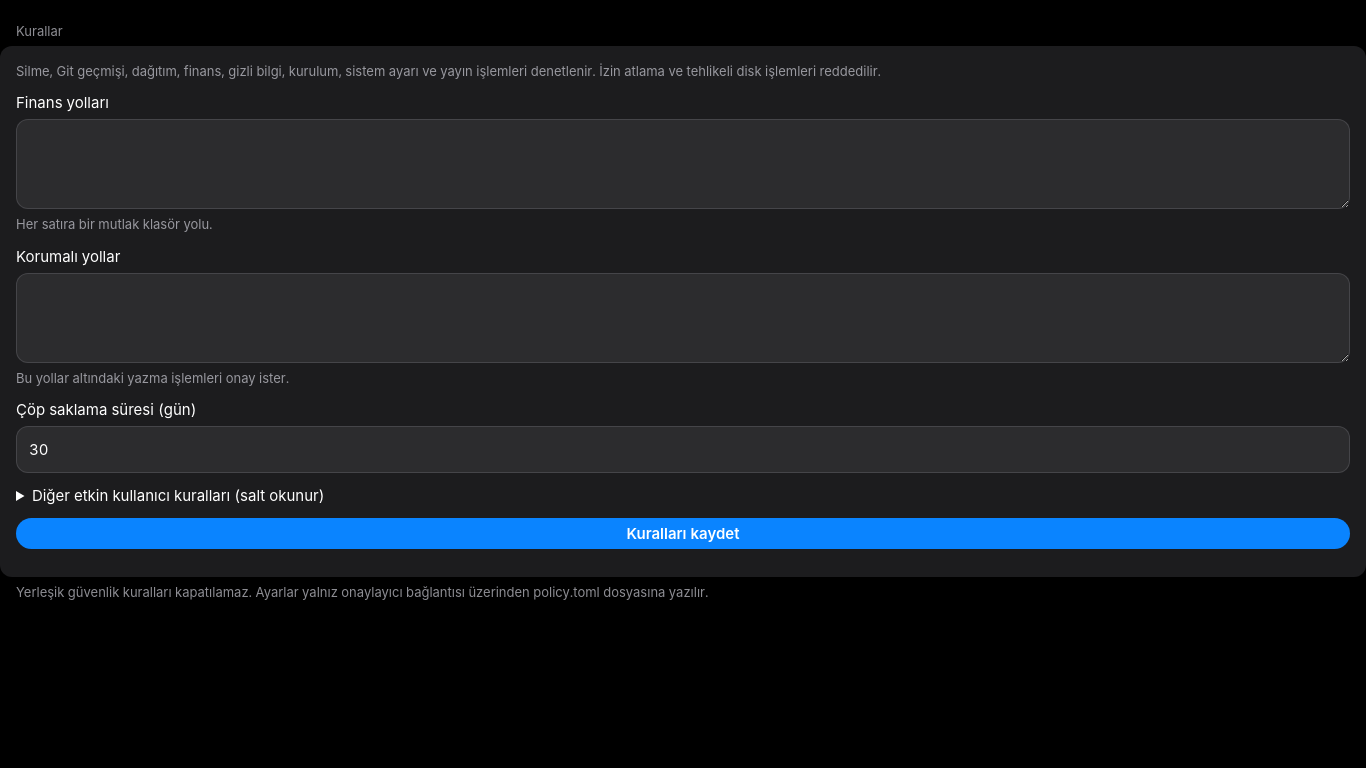
Test case: policy_settings_roundtrip_preserves_readonly_rules
Type "/example/finance" into the text box labelled "Finans yolları Her satıra bir mutlak klasör yolu.". click: (683, 164)
box: left=16, top=119, right=1350, bottom=209
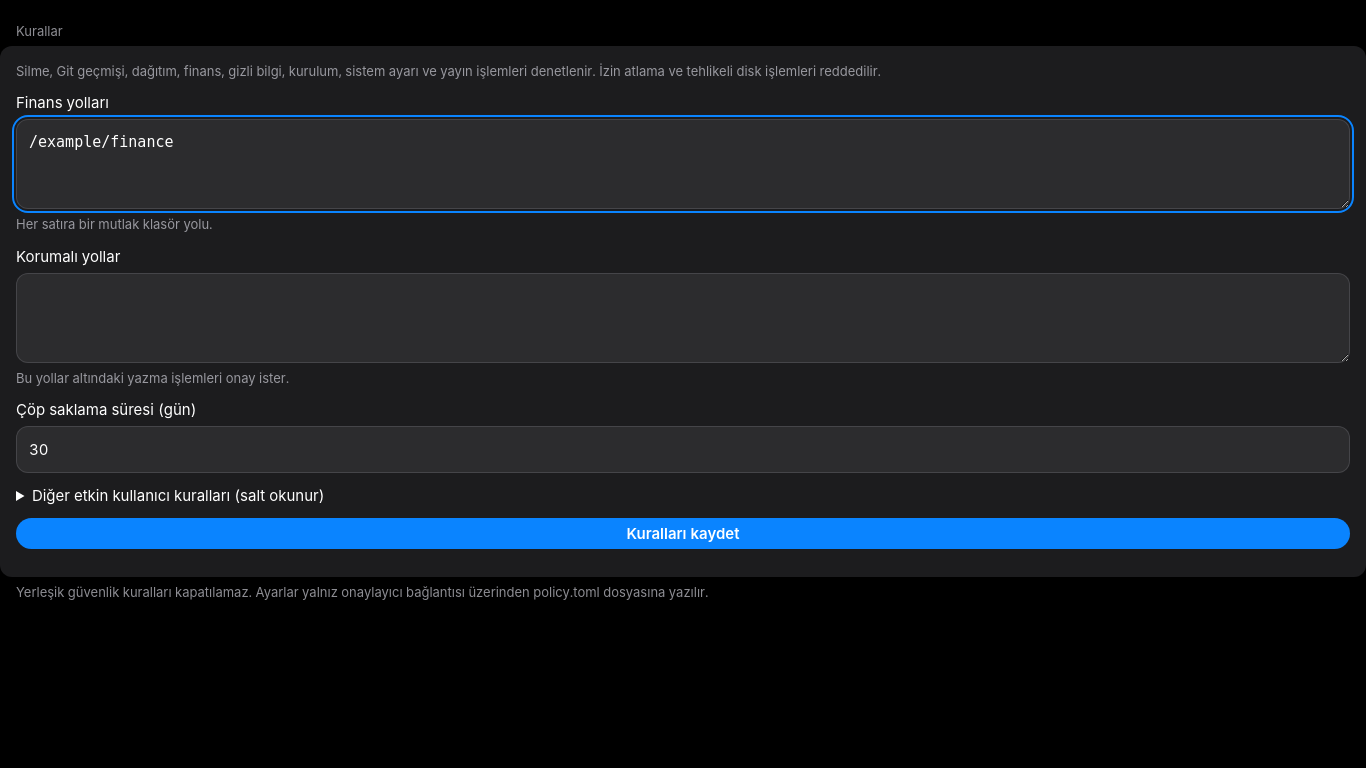
Type "/example/protected" into the text box labelled "Korumalı yollar". click: (683, 318)
box: left=16, top=273, right=1350, bottom=363
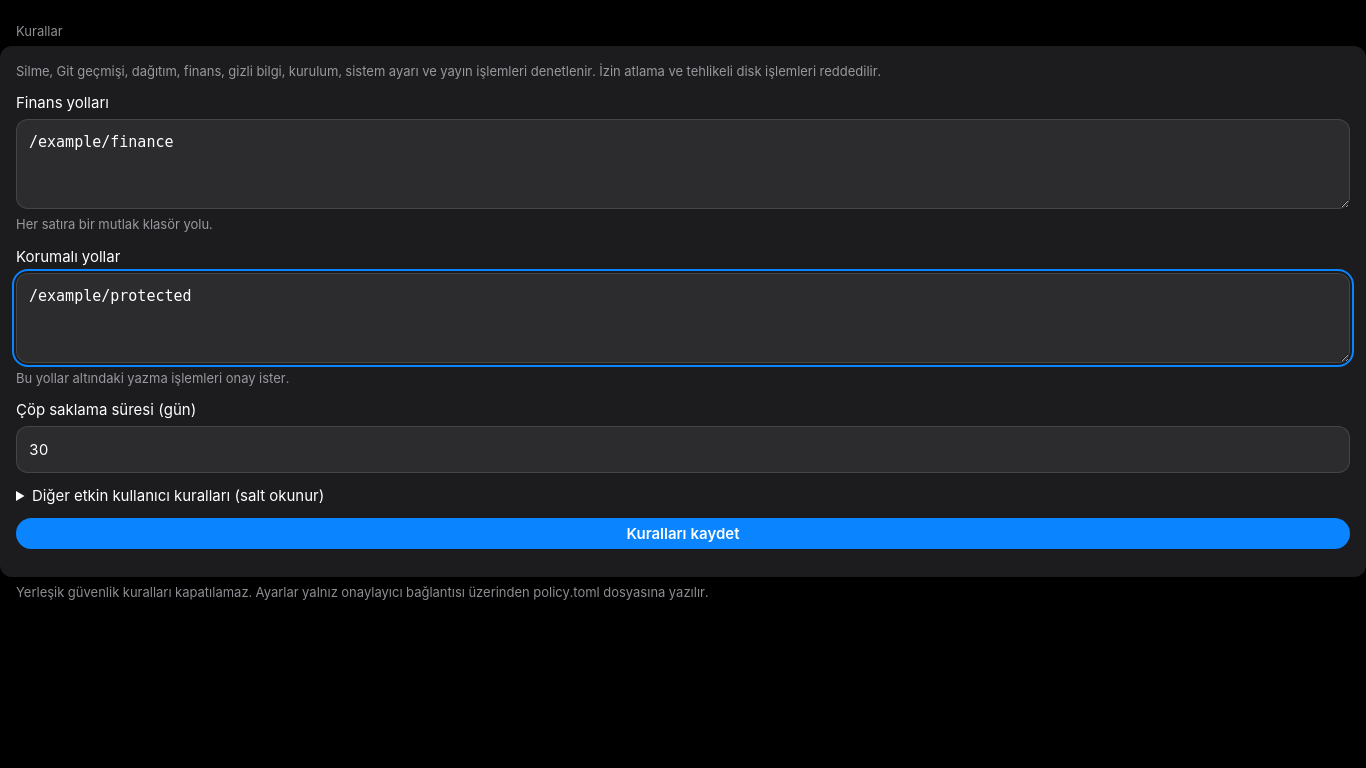
Replace the text in the number field labelled "Çöp saklama süresi (gün)" with "45". click: (683, 449)
box: left=16, top=426, right=1350, bottom=473
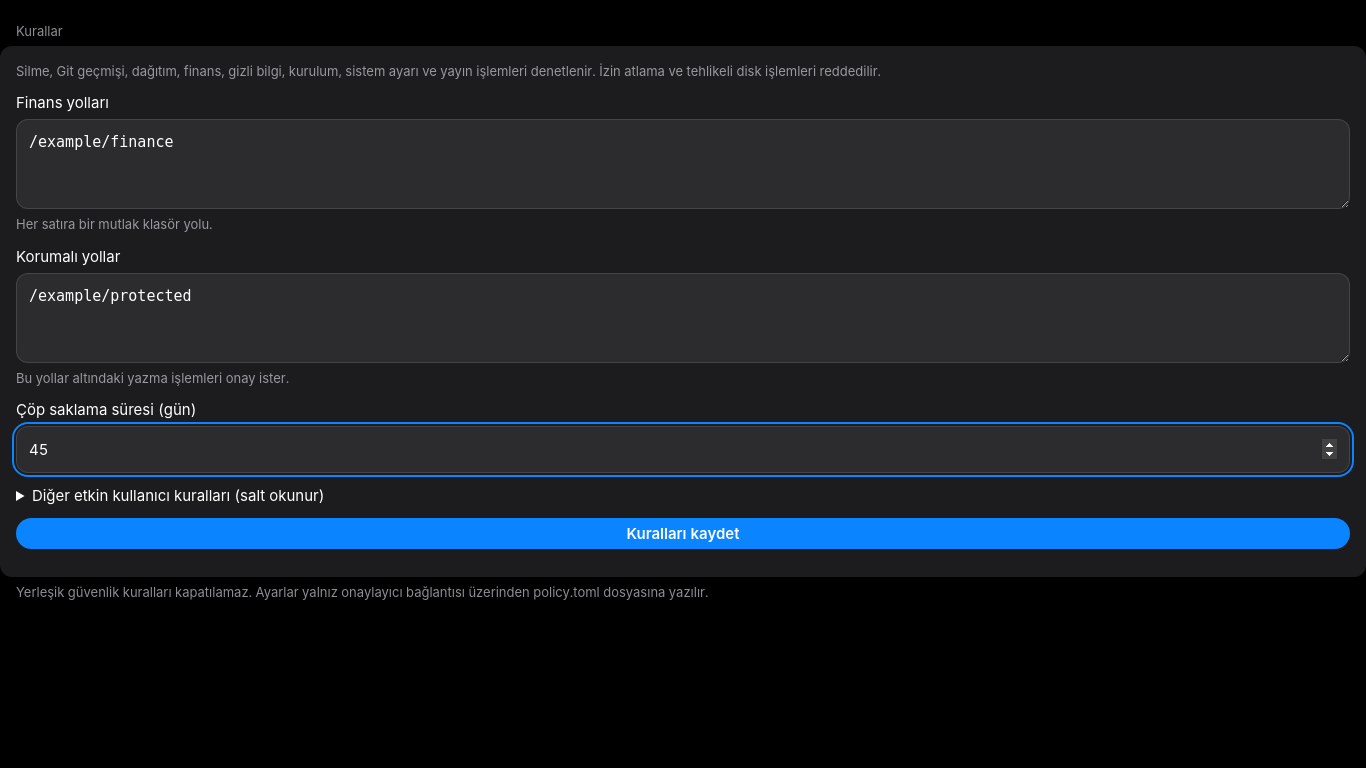
Click the button "Kuralları kaydet". click: (683, 533)
box: left=16, top=518, right=1350, bottom=549
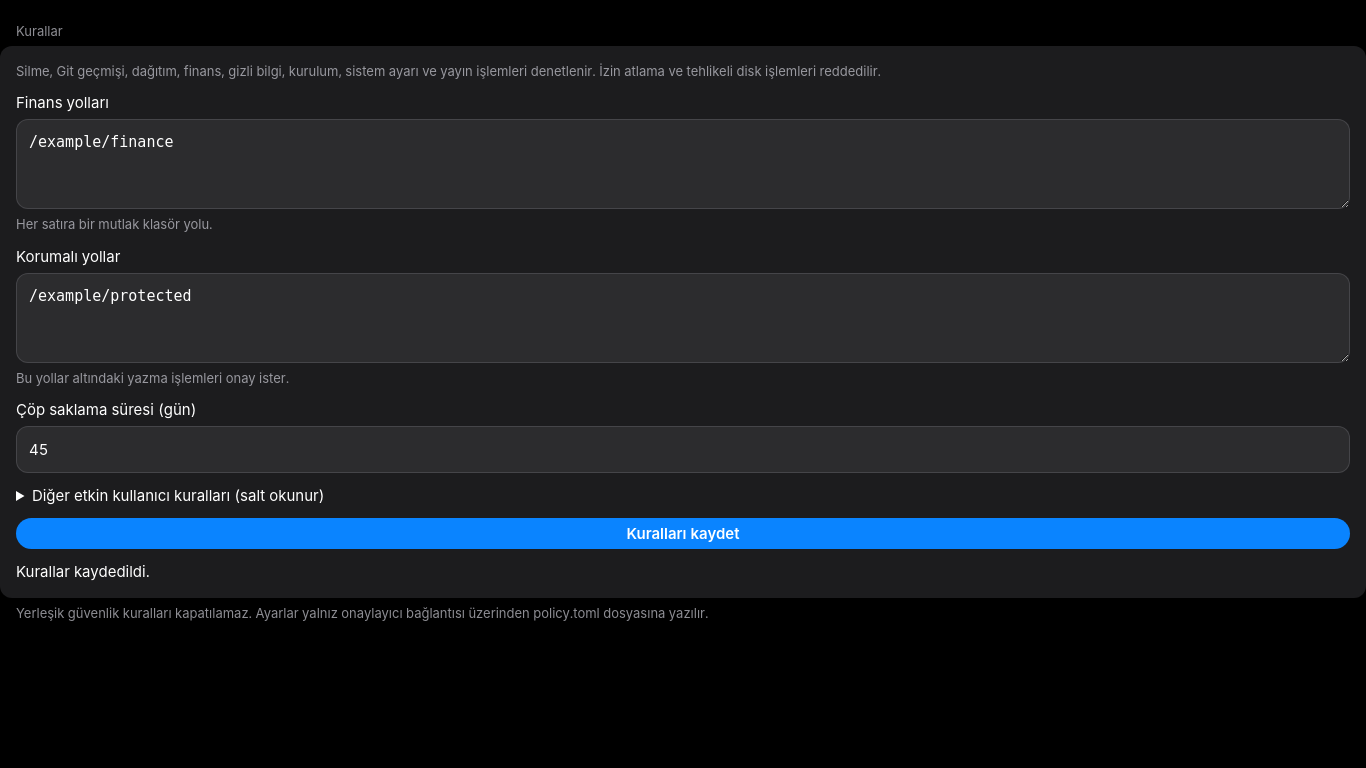
Expected: the text "Kurallar kaydedildi." is shown, left=16, top=562, right=150, bottom=581
